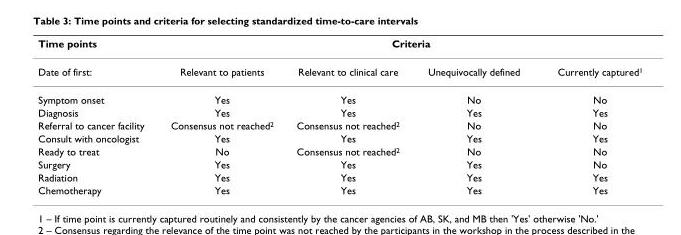table: (37, 36, 641, 195)
table column: (284, 36, 413, 195), (156, 36, 284, 195), (413, 36, 538, 195), (37, 36, 156, 195), (538, 36, 641, 195)
table column header: (37, 36, 641, 85)
table row: (37, 57, 641, 85), (37, 36, 641, 57), (37, 85, 641, 105), (37, 105, 641, 118), (37, 118, 641, 131), (37, 131, 641, 144), (37, 144, 641, 157), (37, 157, 641, 170), (37, 170, 641, 183), (37, 183, 641, 195)
table spanning cell: (156, 36, 641, 57), (37, 36, 156, 85)
